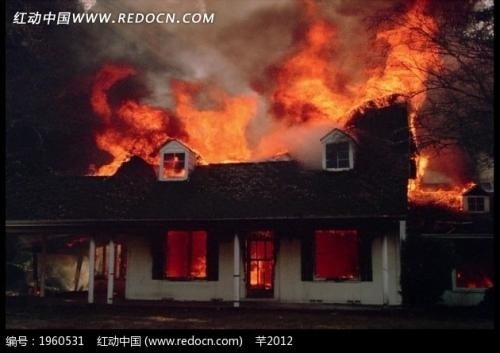fire: (269, 2, 449, 164), (88, 69, 266, 177), (405, 152, 477, 204), (163, 228, 210, 280), (247, 232, 276, 287)
